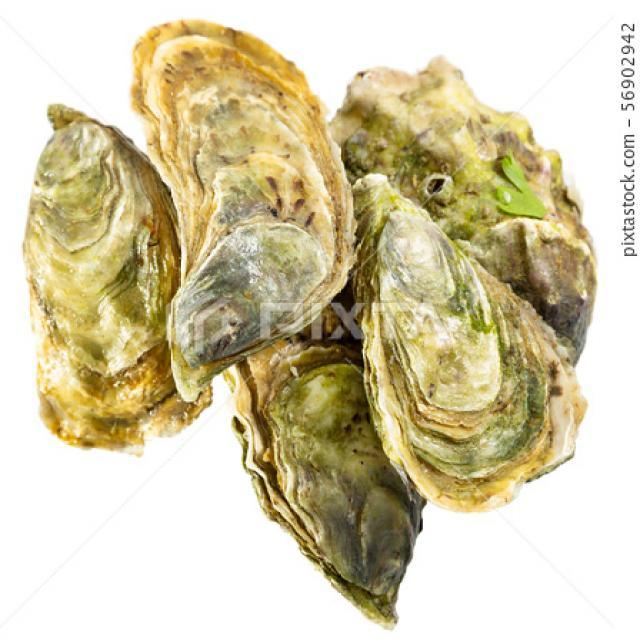Oyster- Indeterminate: (127, 18, 356, 402), (330, 58, 598, 365), (352, 173, 586, 516), (21, 104, 208, 454), (216, 331, 425, 633)
